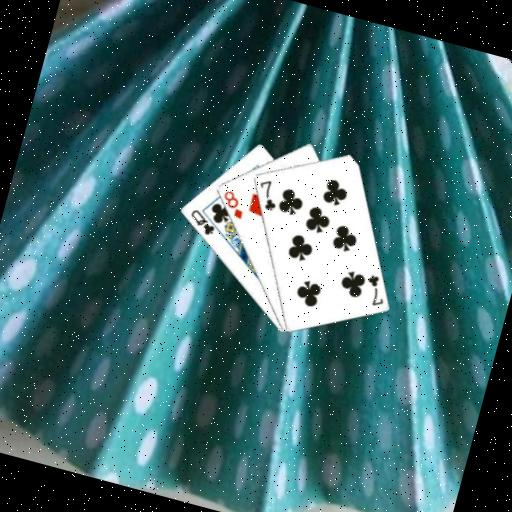7C: (250, 174, 283, 213), (358, 270, 391, 309)
8D: (215, 186, 249, 221)
QC: (183, 204, 220, 238)
